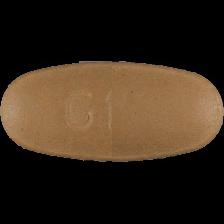10544-549: (0, 0, 224, 224)
